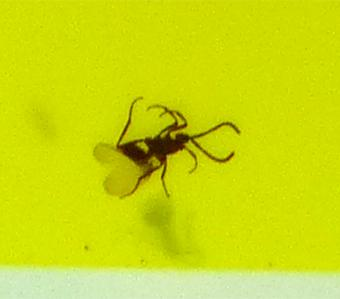Hymenoptera: (100, 100, 240, 199)
